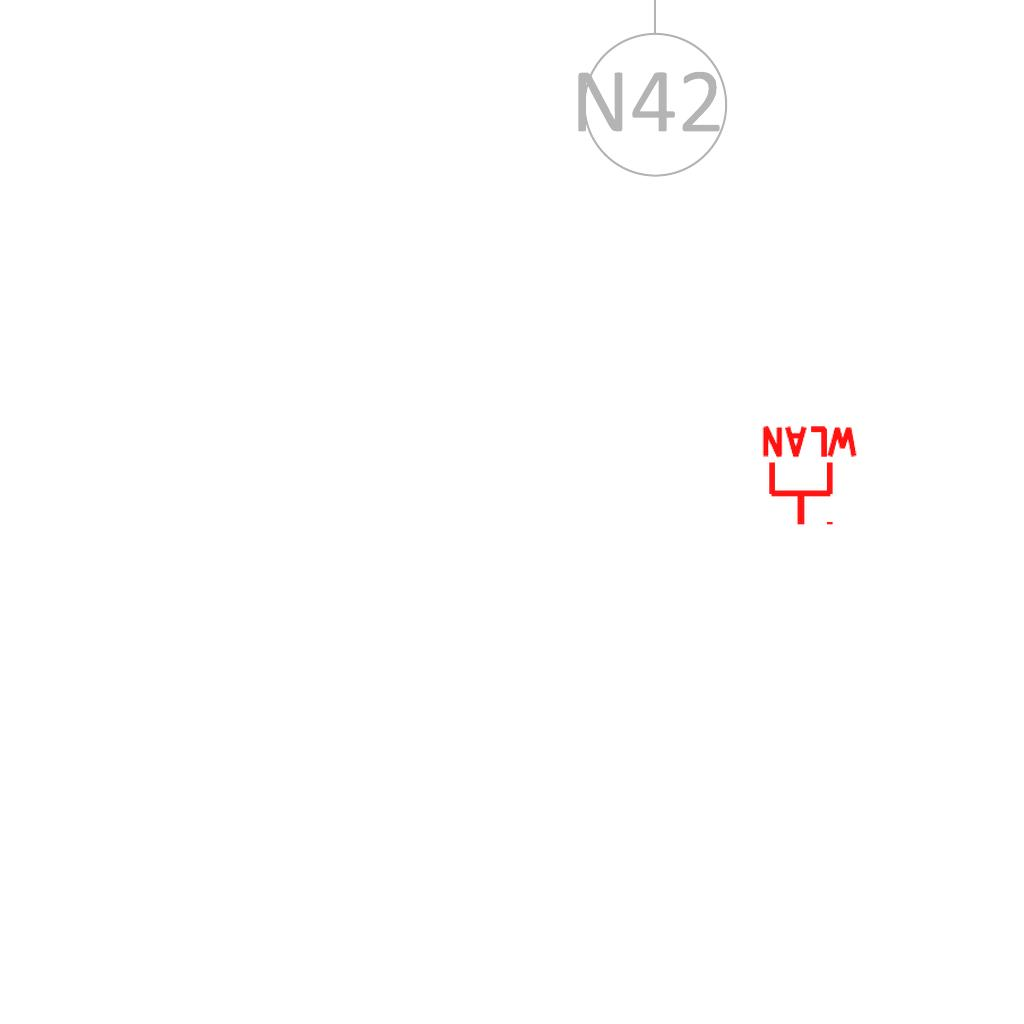WLAN: (758, 424, 862, 529)
